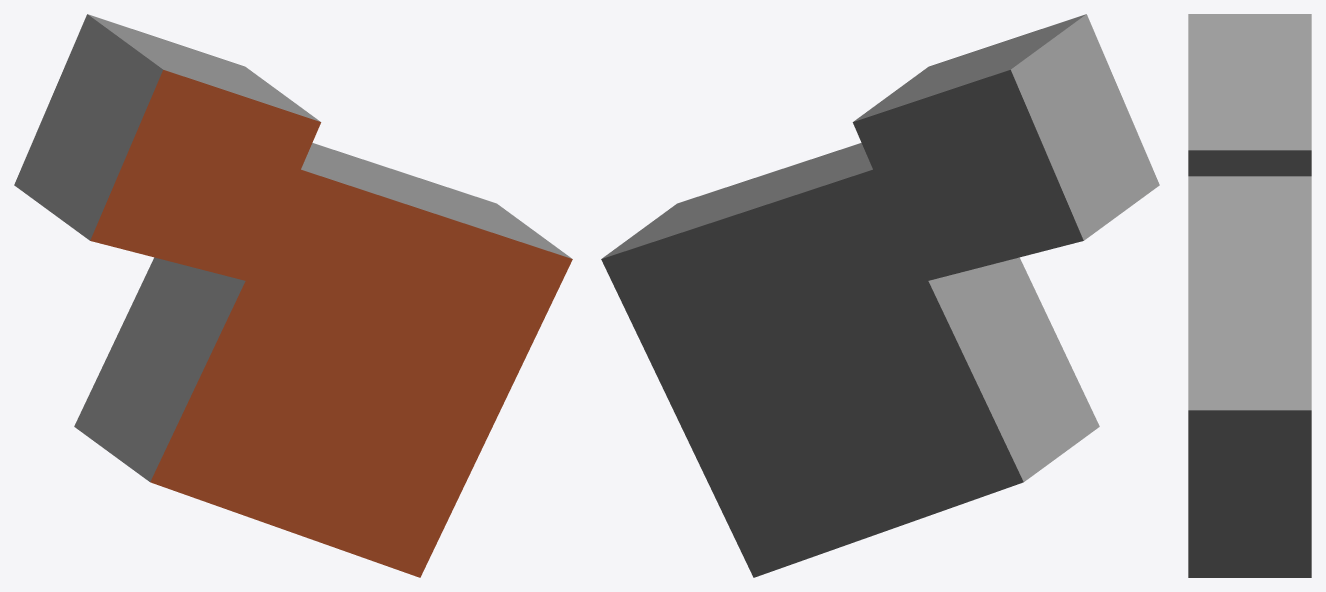
File: construction_3196_assumed_A_Casa_h6m.obj
3 views of the same model, side by side, from view 1: azimuth 30°, elevation 25°; view 2: azimuth 150°, elevation 25°; view 3: azimuth 270°, elevation 25° (orthographic). The views are drawn at different scales.
Parts seen in each view (by area): view 1: construction_3196_assumed_A_Casa; view 2: construction_3196_assumed_A_Casa; view 3: construction_3196_assumed_A_Casa.
Part boxes in pixels (x1=…): construction_3196_assumed_A_Casa: x1=14, y1=14, x2=572, y2=577; construction_3196_assumed_A_Casa: x1=601, y1=14, x2=1159, y2=577; construction_3196_assumed_A_Casa: x1=1188, y1=14, x2=1311, y2=577.
Size of the model in its own units: 21.99 by 24.85 by 6.
